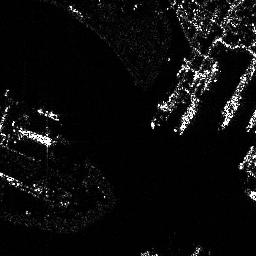ship: (18, 127, 54, 147), (178, 104, 196, 135), (221, 99, 239, 130), (36, 108, 59, 120)
